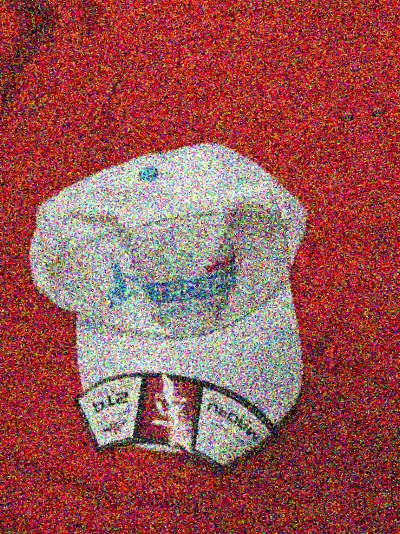Hat: (0, 82, 388, 492), (382, 22, 400, 433)
